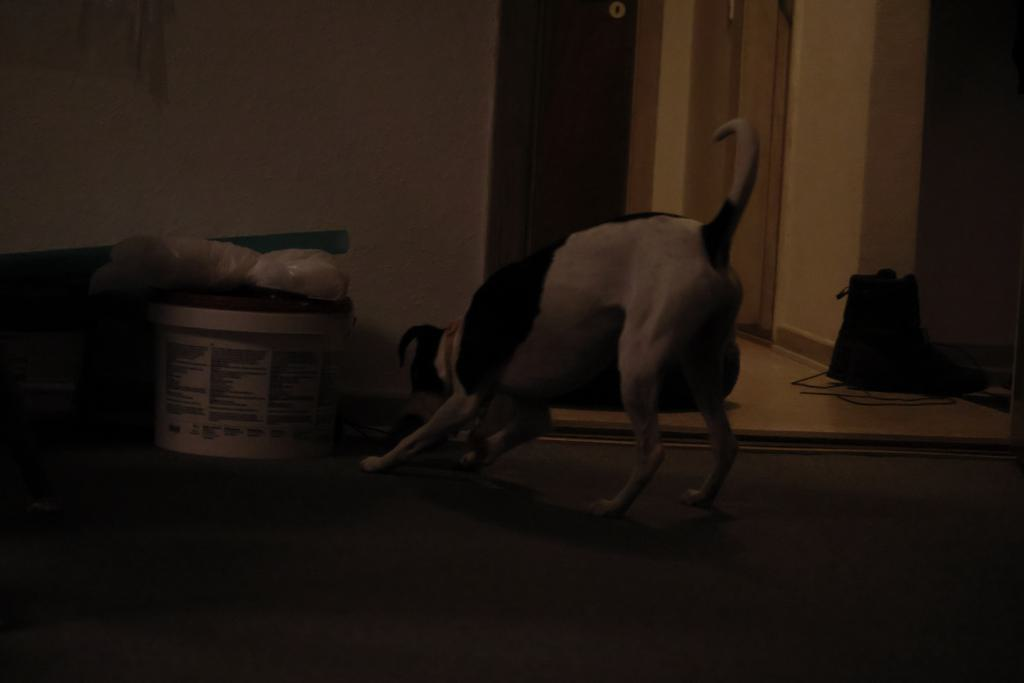Dog: (348, 105, 773, 528)
